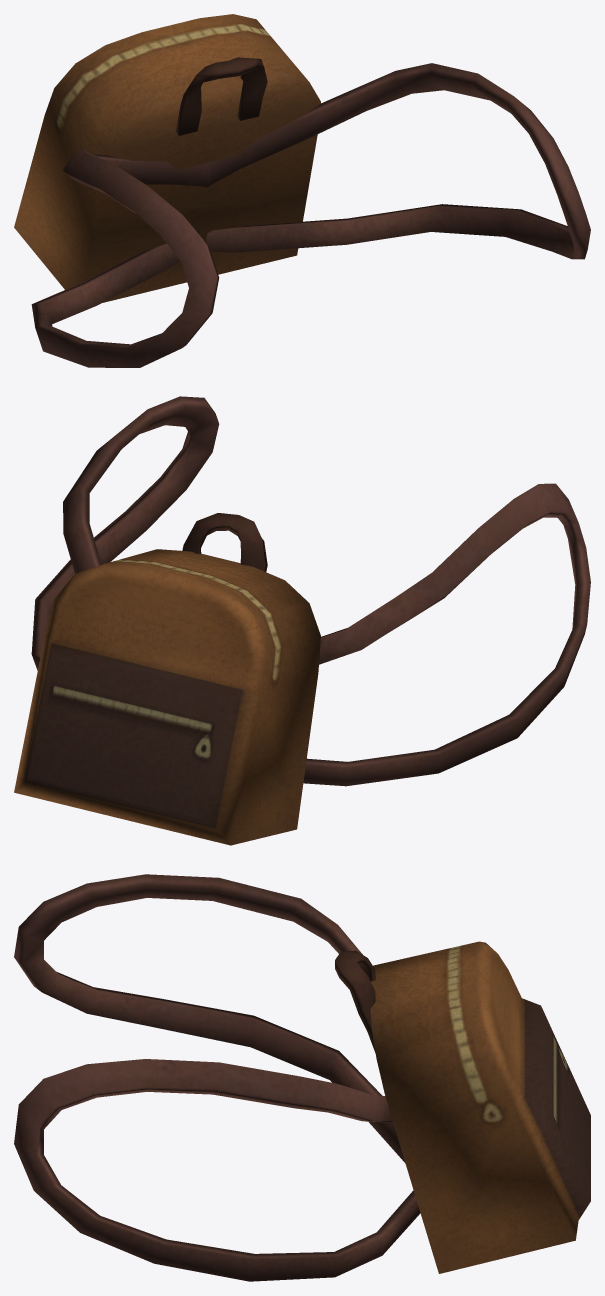
Rendered from SM_BackpackA.glb.
3 renders of one model, top to bottom at view 1: azimuth 30°, elevation 25°; view 2: azimuth 150°, elevation 25°; view 3: azimuth 270°, elevation 25°, orthographic. The views are drawn at different scales.
Parts seen in each view (by area): view 1: SM_BackpackA; view 2: SM_BackpackA; view 3: SM_BackpackA.
Part boxes in pixels (x1,y1,x2,y2): SM_BackpackA: (14,14,590,367); SM_BackpackA: (14,396,590,845); SM_BackpackA: (14,874,590,1281).
Size of the model in its own units: 0.4544 by 0.2231 by 0.4499.
1 material, 1 textured.
